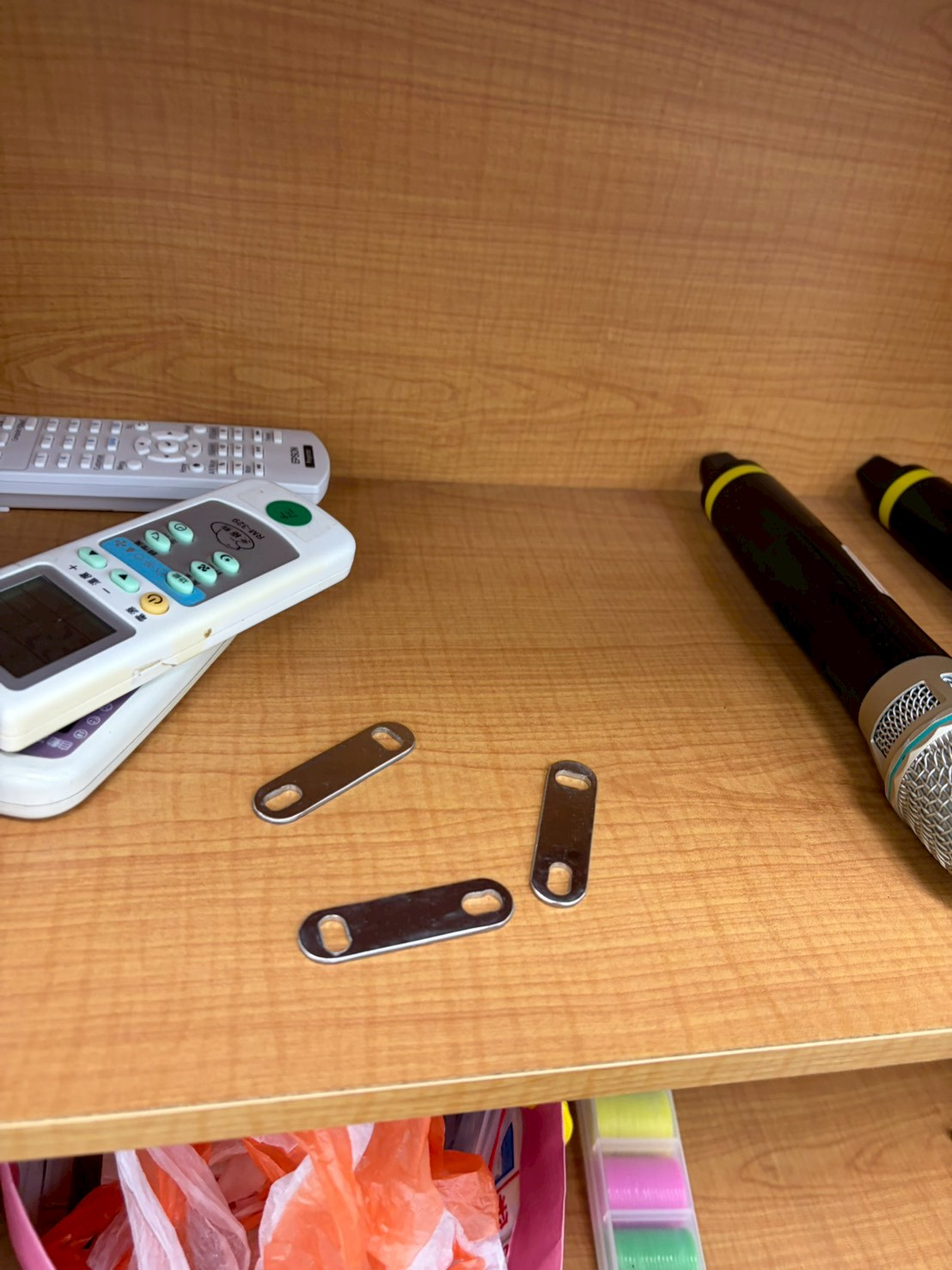Fe: (250, 714, 414, 827), (294, 875, 515, 958), (526, 751, 602, 907)
